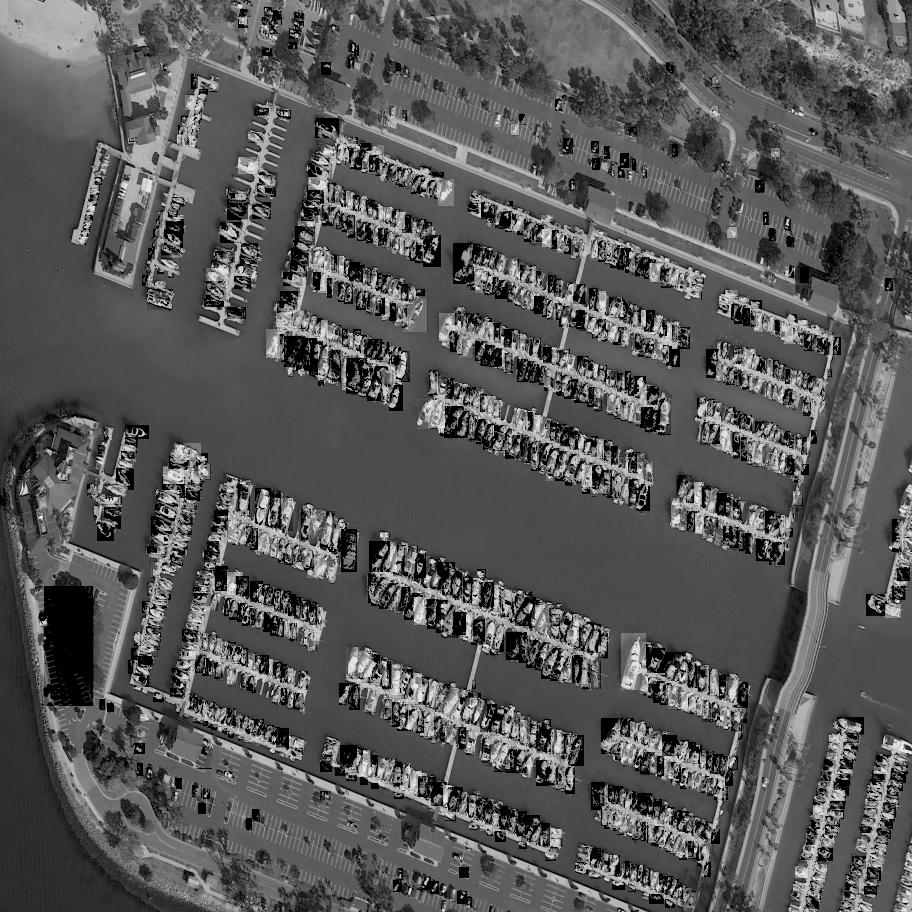ship: (44, 586, 94, 706), (621, 633, 647, 690), (600, 719, 630, 754), (403, 299, 430, 333), (345, 359, 369, 394), (453, 244, 474, 284), (367, 367, 390, 402), (296, 339, 319, 372), (341, 530, 359, 572), (284, 337, 307, 368), (368, 542, 391, 573), (460, 693, 483, 724), (444, 407, 466, 439), (572, 622, 596, 651), (255, 488, 273, 526), (550, 650, 572, 681), (541, 648, 563, 679), (305, 511, 328, 540), (441, 604, 460, 638), (327, 523, 349, 552), (515, 598, 537, 627), (145, 290, 175, 311), (441, 688, 462, 718), (505, 633, 528, 660), (423, 235, 443, 266), (451, 689, 471, 720), (665, 653, 687, 681), (535, 605, 556, 634), (520, 815, 542, 842), (381, 542, 400, 573), (430, 562, 451, 590), (371, 578, 391, 607), (319, 345, 335, 381), (568, 735, 586, 767), (864, 594, 889, 617), (556, 612, 575, 642), (379, 583, 400, 610), (277, 499, 294, 532), (432, 684, 452, 712), (267, 330, 286, 359), (494, 744, 513, 773), (480, 704, 499, 733), (161, 477, 186, 499), (481, 620, 497, 654), (362, 656, 382, 683), (404, 593, 424, 620), (417, 399, 435, 429), (439, 313, 458, 341), (309, 342, 325, 375), (205, 268, 229, 290), (500, 707, 517, 738), (321, 512, 336, 547), (397, 669, 415, 698), (837, 718, 866, 736), (315, 118, 341, 138), (403, 547, 419, 579), (536, 724, 553, 754), (225, 200, 249, 221), (174, 443, 202, 461), (150, 528, 174, 549), (535, 642, 553, 670), (414, 597, 432, 625), (428, 401, 446, 429), (485, 741, 505, 766), (396, 351, 412, 382), (355, 652, 374, 678), (509, 595, 526, 624), (421, 559, 438, 588), (490, 707, 507, 736), (371, 657, 388, 686), (586, 624, 603, 653), (219, 223, 242, 244), (555, 451, 571, 481), (416, 678, 433, 706), (471, 699, 488, 727), (307, 554, 326, 579), (647, 649, 666, 674), (637, 644, 656, 669), (156, 490, 182, 508), (150, 517, 176, 535), (658, 399, 671, 435), (407, 674, 423, 703), (443, 562, 457, 595), (205, 281, 228, 301), (438, 179, 455, 206), (538, 443, 555, 470), (430, 782, 448, 807), (732, 683, 750, 708), (607, 473, 625, 498), (526, 641, 542, 669), (457, 411, 473, 439), (546, 448, 562, 476), (493, 426, 510, 452), (564, 455, 581, 481), (295, 226, 317, 246), (116, 468, 135, 491), (227, 572, 245, 596), (406, 771, 424, 795), (490, 625, 506, 652), (509, 435, 527, 459), (637, 485, 653, 512), (436, 600, 449, 633), (308, 164, 333, 181), (162, 467, 187, 484), (425, 679, 440, 707), (347, 648, 361, 678), (381, 370, 394, 402), (536, 761, 552, 787), (428, 717, 446, 740), (196, 745, 213, 769), (529, 600, 543, 629), (426, 600, 440, 629), (103, 482, 130, 497), (543, 729, 558, 756), (394, 546, 407, 577), (154, 504, 179, 520), (448, 788, 464, 813), (389, 586, 405, 611), (163, 230, 184, 249), (340, 746, 358, 768), (270, 492, 281, 528), (404, 709, 422, 731), (440, 403, 452, 436), (258, 171, 281, 188), (235, 265, 258, 282), (389, 385, 404, 411), (471, 620, 486, 646), (382, 760, 398, 784), (421, 714, 437, 738), (290, 248, 310, 267), (97, 521, 116, 541), (397, 704, 411, 731), (675, 475, 693, 496), (312, 154, 334, 171), (238, 157, 260, 174), (628, 253, 645, 275), (706, 491, 723, 513), (211, 261, 234, 277), (232, 523, 248, 546), (512, 750, 528, 773), (770, 542, 786, 565), (476, 419, 490, 445), (483, 424, 497, 450), (239, 253, 259, 271), (125, 425, 149, 440), (238, 484, 250, 514), (251, 202, 272, 219), (661, 735, 678, 756), (753, 510, 770, 531), (459, 337, 476, 358), (636, 794, 653, 815), (160, 256, 182, 272), (645, 411, 661, 433), (473, 799, 489, 821), (640, 753, 656, 775), (769, 516, 785, 538), (481, 345, 497, 367), (521, 436, 534, 463), (400, 764, 414, 789), (481, 583, 495, 608), (215, 566, 229, 591), (593, 465, 607, 490), (727, 675, 739, 704), (707, 349, 719, 378), (529, 223, 544, 246), (756, 539, 771, 562), (307, 185, 325, 204), (635, 257, 652, 277), (562, 735, 575, 761), (591, 783, 604, 809), (277, 302, 298, 318), (240, 244, 261, 260), (351, 748, 365, 772), (571, 656, 583, 684), (557, 376, 573, 397), (609, 298, 625, 319), (706, 424, 722, 445), (169, 455, 191, 470), (339, 683, 354, 705), (683, 742, 698, 764), (610, 246, 625, 268), (617, 248, 632, 270), (753, 442, 766, 467), (280, 291, 299, 308), (453, 612, 467, 635), (618, 478, 632, 501), (300, 208, 320, 224), (475, 273, 491, 293), (254, 532, 270, 552), (470, 390, 486, 410), (604, 810, 620, 830), (617, 815, 633, 835), (590, 661, 601, 690), (464, 613, 475, 642), (470, 269, 485, 290), (478, 318, 493, 339), (710, 754, 725, 775), (670, 835, 685, 856), (360, 750, 372, 776), (531, 822, 544, 846), (521, 754, 534, 778), (349, 684, 361, 710), (629, 480, 641, 506), (582, 465, 595, 489), (301, 509, 311, 540), (550, 608, 560, 639), (892, 520, 902, 551), (256, 183, 278, 197), (257, 584, 271, 606), (375, 758, 389, 780), (290, 544, 304, 566), (563, 655, 574, 683), (621, 745, 635, 767), (660, 683, 674, 705), (362, 363, 371, 397), (366, 295, 382, 314), (454, 569, 464, 599), (414, 554, 426, 579), (564, 380, 579, 400), (649, 343, 664, 363), (623, 305, 638, 325), (661, 269, 676, 289), (573, 285, 588, 305), (463, 388, 478, 408), (651, 826, 666, 846), (575, 461, 588, 484), (715, 427, 728, 450), (370, 339, 384, 360), (250, 582, 264, 603), (424, 777, 438, 798), (317, 556, 331, 577), (475, 342, 489, 363), (608, 856, 622, 877), (157, 579, 175, 595), (143, 635, 161, 651), (635, 376, 648, 398), (657, 731, 670, 753), (680, 506, 693, 528), (884, 604, 903, 619), (592, 320, 607, 339), (489, 349, 504, 368), (640, 408, 654, 428), (357, 222, 371, 242), (316, 248, 330, 268), (392, 280, 406, 300), (236, 577, 250, 597), (298, 548, 312, 568), (640, 675, 654, 695), (456, 384, 470, 404), (666, 879, 680, 899), (645, 459, 656, 484), (283, 272, 304, 285), (308, 178, 329, 191), (559, 306, 572, 327), (355, 150, 368, 171), (279, 592, 292, 613), (264, 588, 277, 609), (171, 669, 192, 682), (653, 682, 666, 703), (677, 811, 690, 832), (697, 845, 710, 866), (145, 626, 162, 642), (275, 313, 293, 328), (281, 335, 291, 362), (293, 311, 308, 329), (495, 281, 510, 299), (542, 229, 557, 247), (182, 629, 200, 644), (193, 593, 211, 608), (445, 726, 460, 744), (482, 736, 492, 763), (531, 441, 540, 471), (656, 806, 671, 824), (382, 347, 396, 366), (376, 343, 390, 362), (166, 221, 185, 235), (466, 314, 480, 333), (504, 329, 518, 348), (399, 168, 413, 187), (411, 175, 425, 194), (187, 612, 206, 626), (241, 526, 255, 545), (628, 748, 642, 767), (620, 719, 634, 738), (681, 693, 695, 712), (700, 517, 714, 536), (517, 411, 531, 430), (540, 419, 554, 438), (560, 428, 574, 447), (660, 877, 674, 896), (506, 749, 517, 773), (635, 750, 647, 772), (702, 700, 714, 722), (700, 422, 711, 446), (671, 499, 680, 528), (161, 245, 181, 258), (521, 291, 534, 311), (558, 350, 571, 370), (414, 219, 427, 239), (565, 767, 575, 793), (519, 638, 529, 664), (650, 263, 663, 283), (485, 396, 498, 416), (523, 362, 536, 382), (629, 453, 642, 473), (589, 848, 602, 868), (891, 585, 907, 601), (186, 621, 203, 636), (172, 677, 189, 692), (99, 494, 122, 505), (679, 327, 690, 350), (694, 483, 705, 506), (589, 288, 600, 311), (517, 359, 528, 382), (290, 263, 308, 277), (226, 308, 247, 320), (475, 249, 489, 267), (505, 214, 519, 232), (327, 208, 341, 226), (486, 206, 500, 224), (499, 211, 513, 229), (386, 165, 400, 183), (251, 719, 265, 737), (304, 550, 316, 571), (190, 603, 208, 617), (133, 673, 151, 687), (642, 727, 654, 748), (649, 730, 661, 751), (677, 740, 689, 761), (644, 311, 656, 332), (553, 425, 567, 443), (784, 326, 798, 344), (696, 822, 710, 840), (734, 306, 748, 324), (688, 663, 698, 688), (603, 470, 613, 495), (570, 614, 578, 645), (364, 339, 377, 358), (515, 287, 528, 306), (520, 265, 533, 284), (640, 384, 653, 403), (647, 386, 660, 405), (391, 235, 404, 254), (380, 275, 393, 294), (225, 643, 238, 662), (276, 729, 289, 748), (669, 269, 682, 288), (529, 364, 542, 383), (343, 358, 352, 385), (599, 631, 608, 658), (337, 143, 348, 165), (443, 785, 454, 807), (459, 792, 470, 814), (367, 691, 378, 713), (590, 238, 601, 260), (717, 494, 728, 516), (216, 251, 236, 263), (307, 315, 319, 335), (333, 351, 341, 381), (484, 275, 496, 295), (587, 387, 599, 407), (259, 655, 271, 675), (242, 606, 254, 626), (517, 812, 527, 836), (509, 810, 519, 834), (492, 805, 502, 829), (472, 578, 480, 608), (212, 517, 228, 532), (834, 782, 850, 797), (832, 790, 848, 805), (636, 723, 648, 743), (716, 707, 728, 727), (891, 769, 907, 784), (866, 868, 882, 883), (889, 777, 905, 792), (644, 260, 656, 280), (536, 226, 550, 243), (150, 608, 167, 622), (812, 379, 826, 396), (293, 241, 311, 254), (421, 223, 434, 241), (332, 187, 345, 205), (272, 687, 285, 705), (530, 722, 539, 748), (512, 714, 521, 740), (616, 743, 629, 761), (651, 315, 664, 333), (613, 328, 626, 346), (587, 317, 600, 335), (611, 787, 624, 805), (726, 368, 739, 386), (368, 573, 376, 602), (229, 193, 250, 204), (608, 394, 619, 415), (525, 221, 536, 242), (368, 756, 379, 777), (681, 768, 692, 789), (625, 252, 636, 273), (716, 521, 727, 542), (652, 799, 663, 820), (666, 831, 677, 852), (697, 398, 708, 419), (668, 686, 678, 709), (702, 486, 712, 509), (778, 452, 788, 475), (358, 336, 370, 355), (234, 277, 253, 289), (508, 259, 520, 278), (577, 357, 589, 376), (206, 636, 218, 655), (668, 763, 680, 782), (707, 778, 719, 797), (638, 338, 650, 357), (625, 792, 637, 811), (392, 702, 401, 727), (883, 802, 898, 817), (198, 464, 212, 480), (867, 788, 883, 802), (871, 771, 887, 785), (876, 754, 892, 768), (851, 856, 867, 870), (868, 859, 884, 873), (508, 286, 521, 303), (512, 215, 525, 232), (425, 181, 438, 198), (262, 726, 275, 743), (218, 492, 235, 505), (204, 551, 221, 564), (817, 848, 834, 861), (451, 384, 464, 401), (302, 200, 322, 211), (103, 507, 123, 518), (557, 233, 568, 253), (308, 631, 319, 651), (662, 760, 672, 782), (688, 511, 699, 531), (694, 514, 705, 534), (763, 446, 773, 468), (393, 664, 400, 695), (483, 250, 495, 268), (384, 231, 396, 249), (415, 246, 427, 264), (390, 210, 402, 228), (380, 164, 392, 182), (406, 172, 418, 190), (466, 730, 475, 754), (383, 662, 391, 689), (607, 324, 619, 342), (581, 314, 593, 332), (638, 454, 647, 478), (632, 794, 644, 812), (671, 811, 683, 829), (659, 830, 671, 848), (745, 350, 757, 368), (783, 389, 795, 407), (184, 496, 199, 510), (178, 521, 193, 535), (628, 402, 638, 423), (614, 398, 624, 419), (270, 537, 280, 558), (544, 369, 554, 390), (896, 568, 911, 582), (320, 321, 331, 340), (302, 312, 313, 331), (391, 347, 402, 366), (102, 518, 121, 529), (356, 291, 367, 310), (534, 296, 545, 315), (547, 301, 558, 320), (350, 263, 361, 282), (230, 601, 241, 620), (714, 781, 725, 800), (378, 228, 389, 247), (754, 313, 765, 332), (185, 489, 201, 502), (121, 451, 137, 464), (464, 577, 472, 603), (710, 669, 718, 695), (657, 346, 670, 362), (755, 421, 768, 437), (542, 823, 551, 846), (229, 520, 238, 543), (355, 266, 367, 283), (232, 647, 244, 664), (686, 486, 698, 503), (725, 408, 737, 425), (503, 589, 510, 618), (344, 284, 354, 304), (338, 282, 348, 302), (621, 401, 631, 421), (362, 153, 372, 173), (645, 339, 655, 359), (723, 526, 733, 546), (446, 379, 456, 399), (614, 812, 624, 832), (733, 432, 741, 457), (375, 299, 386, 317), (461, 313, 472, 331), (609, 371, 620, 389), (387, 278, 398, 296), (346, 191, 357, 209), (194, 655, 205, 673), (220, 641, 231, 659), (285, 543, 294, 565), (250, 528, 259, 550), (598, 240, 607, 262), (765, 512, 774, 534), (439, 374, 448, 396), (766, 542, 777, 560), (649, 872, 660, 890), (804, 333, 815, 351), (664, 808, 675, 826), (706, 399, 717, 417), (207, 542, 221, 556), (180, 513, 195, 526), (870, 780, 885, 793), (849, 865, 864, 878), (489, 253, 501, 269), (556, 766, 564, 790), (469, 794, 477, 818), (214, 510, 230, 522), (894, 753, 910, 765), (396, 213, 408, 229), (752, 378, 764, 394), (287, 691, 297, 710), (299, 672, 309, 691), (269, 617, 279, 636), (711, 703, 721, 722), (706, 752, 716, 771), (576, 311, 586, 330), (582, 383, 591, 404), (264, 534, 273, 555), (402, 588, 411, 609), (733, 500, 742, 521), (731, 528, 740, 549), (710, 518, 719, 539), (679, 838, 688, 859), (119, 459, 136, 470), (172, 539, 189, 550), (370, 156, 381, 173), (294, 694, 305, 711), (141, 646, 158, 657), (208, 536, 225, 547), (835, 775, 852, 786), (402, 216, 413, 233), (684, 816, 695, 833), (309, 602, 317, 625), (288, 594, 296, 617), (274, 589, 282, 612), (395, 762, 403, 785), (278, 539, 286, 562), (493, 585, 500, 611), (810, 880, 824, 893), (887, 786, 901, 799), (699, 666, 706, 692), (681, 659, 688, 685), (148, 546, 168, 555), (472, 244, 481, 264), (513, 331, 522, 351), (532, 339, 542, 357), (518, 220, 530, 235), (323, 206, 332, 226), (257, 612, 267, 630), (795, 866, 810, 878), (846, 874, 861, 886), (692, 746, 702, 764), (629, 379, 639, 397), (762, 423, 774, 438), (354, 330, 362, 352), (543, 348, 554, 364), (239, 717, 250, 733), (417, 712, 425, 734), (813, 865, 829, 876), (877, 828, 893, 839), (893, 763, 909, 774), (606, 243, 614, 265), (470, 415, 477, 440), (567, 283, 576, 302), (548, 275, 557, 294), (373, 227, 382, 246), (319, 275, 328, 294), (420, 178, 429, 197), (237, 604, 246, 623), (324, 252, 333, 271), (570, 431, 579, 450), (833, 337, 842, 356), (215, 663, 225, 680), (694, 775, 704, 792), (646, 799, 656, 816), (776, 364, 786, 381), (196, 454, 209, 467), (419, 776, 427, 797), (583, 660, 589, 688), (811, 874, 825, 886), (806, 897, 820, 909), (724, 710, 732, 731), (506, 430, 512, 458), (457, 334, 465, 355), (625, 451, 633, 472), (772, 449, 780, 470), (248, 133, 263, 144), (170, 556, 185, 567), (185, 95, 196, 110), (826, 817, 841, 828), (840, 759, 855, 770), (842, 750, 857, 761), (807, 890, 822, 901), (810, 812, 825, 823), (881, 812, 896, 823), (843, 892, 858, 903), (818, 339, 829, 354), (298, 221, 316, 230), (315, 319, 324, 337), (487, 322, 496, 340), (411, 243, 420, 261), (313, 272, 322, 290), (195, 697, 204, 715), (224, 598, 233, 616), (672, 349, 681, 367), (637, 866, 646, 884), (501, 807, 508, 830), (521, 720, 528, 743), (719, 675, 726, 698), (148, 619, 164, 629), (351, 148, 359, 168), (328, 183, 336, 203), (253, 656, 263, 672), (227, 670, 237, 686), (221, 486, 237, 496), (170, 688, 186, 698), (137, 666, 153, 676), (575, 382, 583, 402), (701, 777, 711, 793), (599, 292, 607, 312), (505, 353, 513, 373), (812, 336, 822, 352), (635, 819, 643, 839), (744, 416, 754, 432), (769, 426, 779, 442), (716, 362, 726, 378), (817, 400, 827, 416), (372, 146, 385, 158), (821, 840, 834, 852), (349, 215, 356, 237), (213, 708, 224, 722), (485, 802, 492, 824), (227, 478, 241, 489), (846, 884, 860, 895), (575, 865, 589, 876), (604, 440, 611, 462), (793, 492, 804, 506), (366, 200, 375, 217), (481, 202, 490, 219), (199, 570, 216, 579), (690, 696, 699, 713), (598, 366, 607, 383), (577, 435, 586, 452), (743, 309, 752, 326), (396, 305, 404, 324), (552, 231, 560, 250), (586, 360, 594, 379), (367, 224, 375, 243), (602, 322, 610, 341), (597, 440, 605, 459), (628, 817, 636, 836), (191, 472, 206, 482), (151, 562, 161, 577), (556, 731, 562, 756), (182, 642, 197, 652), (138, 656, 153, 666), (839, 767, 854, 777), (430, 371, 436, 396), (725, 771, 735, 786), (711, 830, 721, 845), (649, 895, 664, 905), (781, 431, 791, 446), (778, 389, 788, 404), (302, 601, 309, 622), (294, 598, 301, 619), (459, 727, 466, 748), (795, 460, 802, 481), (276, 110, 292, 119), (389, 303, 397, 321), (162, 563, 178, 572), (554, 279, 562, 297), (566, 354, 574, 372), (280, 665, 288, 683), (247, 653, 256, 669), (202, 659, 210, 677), (277, 619, 285, 637), (180, 651, 196, 660), (196, 577, 212, 586), (829, 742, 841, 754), (659, 320, 668, 336), (750, 506, 756, 530), (480, 394, 488, 412), (514, 409, 522, 427), (583, 439, 592, 455), (731, 304, 740, 320), (752, 355, 761, 371), (320, 762, 333, 773), (494, 832, 507, 843), (807, 828, 820, 839), (729, 757, 740, 770), (204, 300, 224, 307), (467, 267, 474, 287), (405, 239, 412, 259), (549, 764, 556, 784), (856, 841, 870, 851), (864, 808, 878, 818), (813, 796, 827, 806), (700, 750, 707, 770), (871, 853, 885, 863), (649, 678, 656, 698), (678, 272, 685, 292), (450, 332, 457, 352), (602, 806, 609, 826), (732, 412, 742, 426), (774, 430, 784, 444), (725, 290, 739, 300), (344, 261, 352, 278), (402, 285, 410, 302), (241, 673, 249, 690), (248, 676, 256, 693), (274, 663, 282, 680), (272, 728, 280, 745), (228, 709, 236, 726), (212, 594, 220, 611), (177, 662, 194, 670), (828, 811, 845, 819), (650, 757, 658, 774), (693, 843, 701, 860), (804, 399, 812, 416), (211, 528, 226, 537), (844, 743, 859, 752), (885, 796, 900, 805), (865, 879, 880, 888), (863, 886, 878, 895), (768, 318, 777, 333), (714, 404, 723, 419), (495, 324, 502, 343), (501, 326, 508, 345), (495, 208, 502, 227), (264, 613, 271, 632), (732, 712, 739, 731), (634, 308, 641, 327), (611, 446, 618, 465), (787, 455, 794, 474), (295, 740, 307, 751), (821, 773, 833, 784), (813, 805, 825, 816), (556, 372, 562, 394), (595, 388, 601, 410), (741, 438, 747, 460), (321, 754, 334, 764), (816, 789, 829, 799), (823, 759, 836, 769), (874, 845, 887, 855), (717, 304, 730, 314), (718, 296, 731, 306), (254, 108, 270, 116), (364, 292, 372, 308), (733, 348, 741, 364), (797, 371, 805, 387), (123, 444, 137, 453), (625, 371, 632, 389), (342, 213, 349, 231), (385, 208, 394, 222), (246, 719, 255, 733), (220, 709, 229, 723), (316, 608, 323, 626), (216, 503, 230, 512), (822, 766, 836, 775), (802, 846, 816, 855), (879, 820, 893, 829), (841, 902, 855, 911), (635, 334, 642, 352), (621, 330, 628, 348), (540, 366, 547, 384), (371, 270, 378, 288), (598, 852, 605, 870), (801, 437, 808, 455), (741, 347, 748, 365), (742, 371, 749, 389), (155, 592, 170, 600), (458, 308, 464, 328), (420, 166, 432, 176), (209, 661, 217, 676), (552, 830, 564, 840), (153, 693, 165, 703), (204, 562, 219, 570), (441, 722, 447, 742), (865, 800, 880, 808), (142, 602, 152, 614), (621, 300, 627, 320), (591, 437, 597, 457), (741, 709, 749, 724), (704, 862, 712, 877), (556, 303, 563, 320), (313, 248, 320, 265), (242, 649, 249, 666), (534, 415, 541, 432), (644, 869, 651, 886), (172, 197, 185, 206), (285, 735, 294, 748), (578, 847, 591, 856), (759, 358, 768, 371), (749, 442, 754, 465), (573, 239, 579, 258), (530, 266, 536, 285), (658, 757, 664, 776), (698, 697, 704, 716), (721, 756, 727, 775), (494, 399, 500, 418), (500, 350, 506, 369), (551, 422, 557, 441), (188, 483, 202, 491), (125, 438, 139, 446), (191, 75, 199, 89), (493, 278, 500, 294), (408, 287, 415, 303), (354, 195, 361, 211), (377, 160, 384, 176), (216, 638, 223, 654), (825, 826, 839, 834), (874, 766, 888, 774), (612, 882, 626, 890), (894, 579, 908, 587), (811, 430, 819, 444), (722, 342, 729, 358), (803, 374, 810, 390), (335, 768, 346, 778), (445, 812, 456, 822), (780, 516, 785, 538), (521, 334, 527, 352), (470, 196, 482, 205), (847, 734, 859, 743), (672, 325, 678, 343), (688, 841, 694, 859), (648, 825, 654, 843), (773, 360, 779, 378), (182, 508, 197, 515), (259, 725, 266, 740), (385, 699, 390, 720), (739, 414, 746, 429), (810, 376, 817, 391), (773, 386, 780, 401), (173, 549, 186, 557), (176, 533, 189, 541), (468, 204, 481, 212), (549, 839, 562, 847), (823, 834, 836, 842), (689, 292, 702, 300), (342, 330, 348, 347), (536, 271, 542, 288), (527, 339, 533, 356), (336, 212, 342, 229), (341, 190, 347, 207), (361, 197, 367, 214), (291, 623, 297, 640), (632, 865, 638, 882), (608, 785, 614, 802), (693, 820, 699, 837), (328, 561, 333, 581), (665, 899, 675, 909), (327, 278, 332, 298), (810, 821, 821, 830), (88, 198, 99, 207), (92, 489, 101, 500), (787, 314, 798, 323), (345, 149, 352, 163), (148, 248, 156, 260), (543, 300, 549, 316), (359, 143, 371, 151), (435, 182, 441, 198), (282, 689, 288, 705), (251, 609, 257, 625), (131, 648, 139, 660), (767, 359, 773, 375), (796, 434, 802, 450), (636, 406, 641, 425), (745, 534, 750, 553), (658, 874, 663, 893), (727, 432, 732, 451), (154, 601, 167, 608), (134, 633, 141, 646), (589, 872, 602, 879), (348, 333, 354, 348), (385, 299, 390, 317), (565, 235, 570, 253), (617, 374, 622, 392), (400, 237, 405, 255), (397, 167, 402, 185), (288, 667, 293, 685), (268, 659, 274, 674), (208, 84, 218, 93), (627, 884, 637, 893), (667, 347, 672, 365), (665, 323, 670, 341), (707, 823, 712, 841), (605, 854, 610, 872), (621, 790, 626, 808), (642, 823, 647, 841), (792, 507, 798, 522), (737, 371, 743, 386), (168, 210, 179, 218), (469, 823, 480, 831), (818, 781, 829, 789), (829, 735, 840, 743), (87, 485, 95, 496), (142, 275, 150, 286), (692, 285, 703, 293), (802, 465, 810, 476), (751, 301, 762, 309), (332, 255, 337, 272), (374, 203, 379, 220), (209, 703, 214, 720), (190, 694, 195, 711), (304, 629, 309, 646), (203, 633, 208, 650), (363, 268, 368, 285), (203, 702, 209, 716), (831, 802, 845, 808), (799, 861, 811, 868), (739, 297, 751, 304), (768, 384, 774, 398), (477, 570, 486, 579), (190, 130, 199, 139), (403, 308, 407, 328), (178, 125, 186, 135), (552, 348, 557, 364), (235, 714, 240, 730), (226, 575, 231, 591), (518, 842, 528, 850), (193, 113, 203, 121), (786, 528, 794, 538), (641, 310, 646, 326), (727, 497, 731, 517), (740, 530, 744, 550), (723, 366, 728, 382), (541, 216, 554, 222), (824, 342, 830, 355), (170, 203, 181, 210), (182, 117, 189, 128), (545, 853, 556, 860), (326, 741, 337, 748), (827, 752, 838, 759), (793, 884, 804, 891), (631, 722, 635, 741), (593, 364, 598, 379), (476, 318, 481, 333), (285, 622, 290, 637), (674, 741, 679, 756), (678, 884, 683, 899), (785, 369, 790, 384), (749, 376, 754, 391), (288, 368, 296, 377), (336, 325, 340, 343), (155, 282, 167, 288), (94, 178, 103, 186), (80, 234, 89, 242), (531, 293, 535, 311), (377, 273, 381, 291), (863, 819, 875, 825), (876, 838, 888, 844), (98, 446, 106, 455), (546, 472, 554, 481), (564, 479, 573, 487), (194, 107, 203, 115), (153, 230, 161, 239), (360, 777, 369, 785), (572, 309, 576, 327), (340, 256, 344, 274), (785, 540, 791, 552), (792, 392, 796, 410), (806, 838, 816, 845), (751, 312, 756, 326), (677, 765, 681, 782), (626, 861, 630, 878), (432, 172, 443, 178), (794, 329, 799, 342), (607, 370, 611, 386), (194, 588, 210, 592), (591, 489, 599, 497), (91, 187, 99, 195), (782, 324, 786, 340), (156, 220, 163, 229), (87, 206, 96, 213), (550, 848, 559, 855), (543, 719, 552, 726), (148, 583, 153, 595), (413, 219, 417, 234), (347, 775, 357, 781), (190, 115, 196, 125), (792, 371, 796, 386), (297, 369, 305, 376), (157, 267, 165, 274), (84, 223, 92, 230), (88, 202, 96, 209), (87, 211, 95, 218), (379, 207, 383, 221), (802, 854, 813, 859), (146, 262, 151, 273), (811, 326, 822, 331), (789, 437, 794, 448), (529, 412, 532, 430), (129, 660, 133, 673), (801, 334, 805, 347), (152, 238, 157, 248), (293, 749, 303, 754), (861, 828, 871, 833), (577, 858, 587, 863), (318, 379, 325, 386), (564, 225, 571, 232), (228, 731, 235, 738), (191, 126, 198, 133), (172, 216, 184, 220), (177, 133, 181, 145), (79, 239, 87, 245), (81, 232, 89, 238), (82, 227, 90, 233), (195, 104, 203, 110), (198, 97, 206, 103), (491, 650, 499, 656), (193, 124, 201, 130), (811, 402, 814, 418), (349, 138, 358, 143), (792, 893, 801, 898), (696, 279, 705, 284), (739, 724, 742, 739), (799, 320, 808, 325), (582, 488, 589, 494), (525, 591, 532, 597), (487, 830, 494, 836), (187, 128, 193, 135), (190, 135, 197, 141), (764, 317, 767, 331), (417, 290, 425, 295), (394, 794, 404, 798), (381, 533, 389, 538), (90, 196, 98, 201), (95, 479, 100, 487), (724, 787, 727, 800), (776, 321, 779, 334), (105, 427, 108, 439), (325, 749, 334, 753), (199, 90, 208, 94), (90, 193, 99, 197), (94, 507, 98, 516), (156, 489, 160, 498), (480, 826, 486, 832), (714, 378, 721, 383), (197, 102, 205, 106), (198, 94, 206, 98), (828, 369, 832, 377), (189, 139, 197, 143), (93, 185, 99, 190), (159, 211, 162, 221), (199, 718, 204, 724), (695, 416, 701, 421), (86, 215, 92, 220), (371, 784, 378, 788), (86, 219, 91, 224), (204, 722, 209, 727), (212, 725, 218, 729), (194, 120, 200, 124), (473, 681, 476, 688), (169, 273, 173, 278), (508, 201, 512, 206), (194, 718, 198, 723), (633, 837, 639, 840), (227, 189, 229, 197), (186, 136, 188, 144), (239, 737, 244, 740), (209, 723, 212, 728), (218, 728, 223, 731), (717, 818, 719, 825), (311, 373, 315, 376), (223, 729, 227, 732)
small-vehicle: (563, 139, 575, 155), (620, 154, 631, 169), (192, 785, 203, 799), (421, 877, 432, 891), (726, 227, 738, 239), (801, 267, 810, 283), (458, 867, 471, 878), (430, 882, 441, 895), (457, 891, 468, 904), (494, 115, 505, 128), (224, 772, 236, 783), (320, 792, 332, 803), (264, 7, 276, 18), (269, 21, 281, 32), (755, 180, 765, 193), (711, 77, 722, 88), (710, 107, 721, 118), (239, 14, 250, 25), (134, 744, 146, 754), (393, 881, 403, 893), (237, 20, 249, 30), (137, 764, 146, 777), (252, 809, 261, 822), (768, 228, 777, 241), (884, 278, 893, 291), (440, 885, 448, 899), (290, 30, 301, 40), (770, 149, 781, 159), (269, 27, 279, 38), (271, 16, 283, 25), (518, 114, 527, 126), (593, 159, 602, 171), (629, 128, 638, 140), (511, 124, 520, 136), (592, 141, 600, 154), (788, 266, 796, 279), (38, 613, 49, 622), (666, 63, 675, 74), (618, 166, 626, 178), (605, 162, 613, 174), (556, 100, 564, 112), (762, 778, 770, 790), (785, 219, 792, 232), (763, 212, 770, 225), (198, 804, 206, 815), (203, 789, 211, 800), (293, 21, 304, 29), (321, 63, 332, 71), (203, 739, 212, 748), (453, 853, 463, 861), (672, 144, 678, 157), (262, 49, 273, 56), (241, 10, 252, 17), (268, 35, 279, 42), (246, 818, 252, 830), (107, 704, 115, 713), (350, 43, 356, 55), (261, 24, 270, 32), (347, 822, 357, 829), (273, 11, 283, 18), (177, 779, 183, 790), (321, 70, 332, 76), (468, 896, 473, 909), (263, 18, 271, 26), (174, 793, 181, 802), (288, 43, 297, 50), (331, 26, 340, 33), (260, 30, 269, 37), (396, 62, 401, 74), (140, 714, 148, 721), (100, 699, 105, 710), (349, 57, 354, 68), (137, 732, 146, 738), (409, 887, 414, 897), (532, 165, 537, 175), (391, 108, 396, 118), (399, 868, 403, 880), (605, 147, 609, 159), (809, 130, 817, 136), (293, 27, 302, 32), (147, 768, 151, 779), (632, 159, 636, 170), (629, 171, 633, 182), (785, 266, 789, 277), (40, 620, 47, 626), (172, 778, 176, 787), (294, 14, 303, 18), (355, 46, 359, 55), (163, 65, 169, 71), (612, 162, 615, 173), (571, 180, 574, 191), (643, 167, 646, 177), (787, 237, 790, 247), (791, 237, 794, 247), (404, 111, 407, 121), (406, 67, 409, 77)
